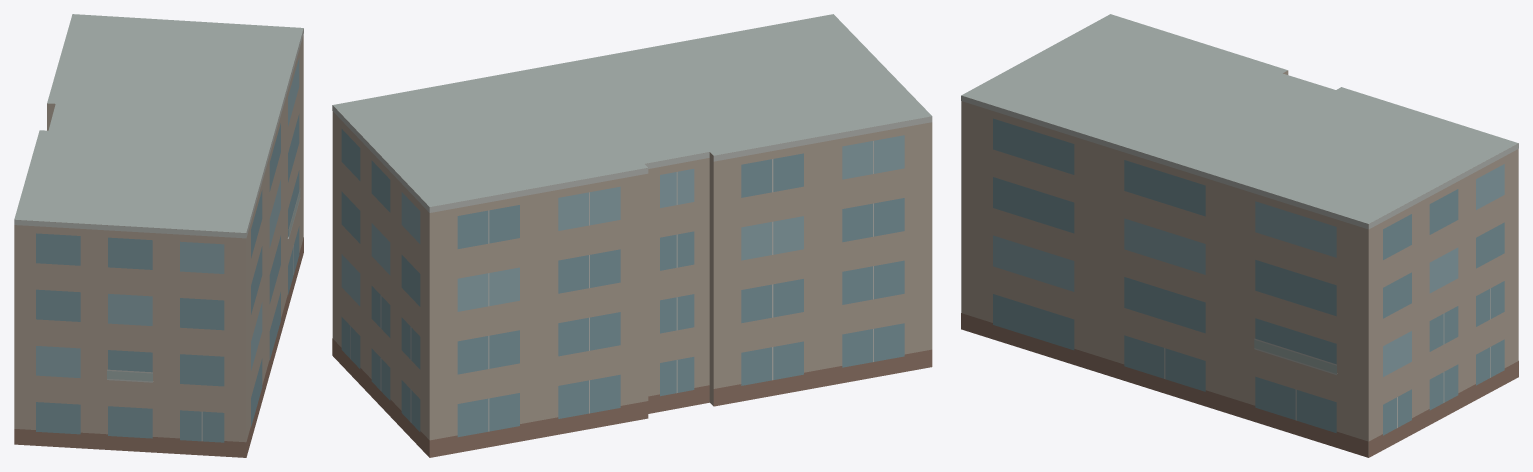
The model's file is survey-upis-32669910.glb.
3 views of the same model, side by side, from view 1: azimuth 30°, elevation 25°; view 2: azimuth 150°, elevation 25°; view 3: azimuth 270°, elevation 25° (orthographic). The views are drawn at different scales.
Visible parts, largest first — view 1: survey-upis-32669910.tmp; view 2: survey-upis-32669910.tmp; view 3: survey-upis-32669910.tmp.
Part boxes in pixels (left/top/right/bottom): survey-upis-32669910.tmp: left=14, top=14, right=303, bottom=457; survey-upis-32669910.tmp: left=332, top=14, right=932, bottom=457; survey-upis-32669910.tmp: left=961, top=14, right=1518, bottom=457.
Size of the model in its own units: 20.04 by 10.4 by 22.48.
